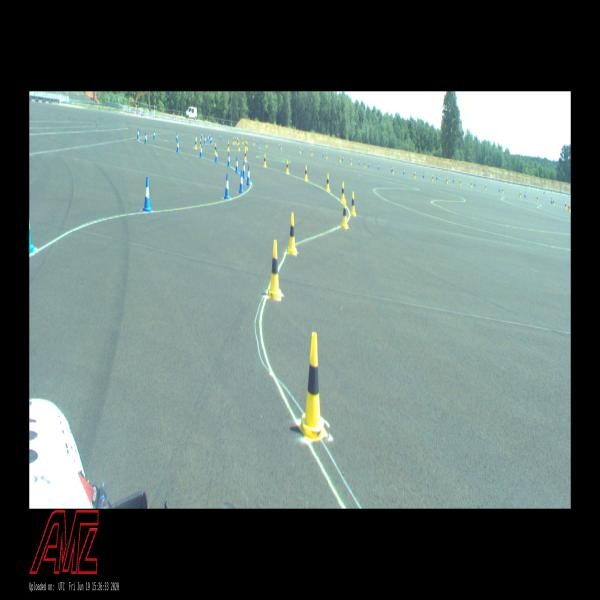blue_cone: (142, 177, 152, 212), (224, 173, 230, 199), (239, 169, 244, 194), (246, 166, 251, 185), (214, 148, 219, 163), (235, 156, 239, 173), (227, 153, 231, 167), (243, 160, 246, 178), (176, 140, 180, 153), (200, 143, 203, 158), (137, 129, 140, 140), (153, 129, 156, 140), (145, 132, 147, 144), (422, 171, 425, 179), (176, 131, 178, 142), (452, 176, 455, 183), (204, 135, 206, 145), (207, 133, 209, 142), (201, 131, 203, 139), (524, 190, 526, 198), (210, 136, 212, 144), (220, 132, 222, 140), (436, 173, 438, 180), (368, 160, 370, 167), (474, 180, 476, 187), (322, 150, 324, 157), (358, 158, 360, 165), (342, 155, 344, 162), (550, 198, 552, 204), (257, 139, 259, 145), (403, 167, 404, 175), (499, 185, 500, 192), (378, 162, 379, 169), (209, 132, 210, 139), (212, 134, 212, 143)
yellow_cone: (299, 332, 328, 441), (268, 240, 282, 299), (286, 212, 297, 256), (341, 200, 349, 228), (350, 191, 357, 217), (340, 181, 344, 202), (304, 164, 308, 182), (326, 173, 330, 191), (286, 160, 289, 173), (264, 154, 266, 167), (195, 137, 197, 150), (536, 194, 539, 202), (228, 140, 230, 151), (459, 179, 462, 186), (199, 138, 201, 148), (470, 181, 473, 187), (484, 184, 487, 190), (233, 136, 235, 145), (568, 203, 570, 212), (253, 138, 255, 146), (392, 167, 394, 175), (242, 137, 244, 145), (235, 136, 237, 144), (238, 143, 240, 151), (414, 171, 416, 179), (364, 160, 366, 168), (311, 148, 313, 156), (237, 138, 239, 146), (519, 190, 521, 198), (564, 202, 566, 209), (552, 199, 554, 206), (339, 156, 341, 163), (326, 152, 328, 159), (502, 187, 504, 194), (446, 177, 448, 184), (215, 142, 216, 156), (300, 146, 302, 153), (350, 158, 352, 164), (245, 149, 246, 161), (280, 143, 282, 149), (245, 140, 246, 151), (247, 141, 248, 151), (266, 141, 267, 147), (432, 175, 433, 181)
